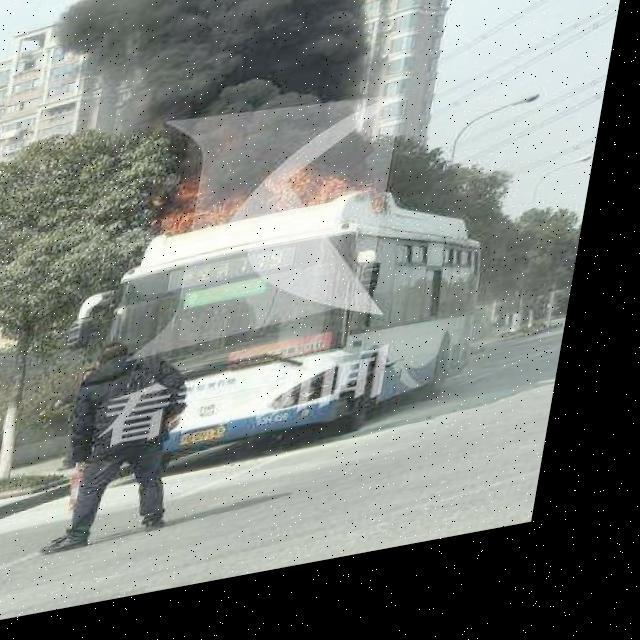Fire: (163, 149, 405, 265)
